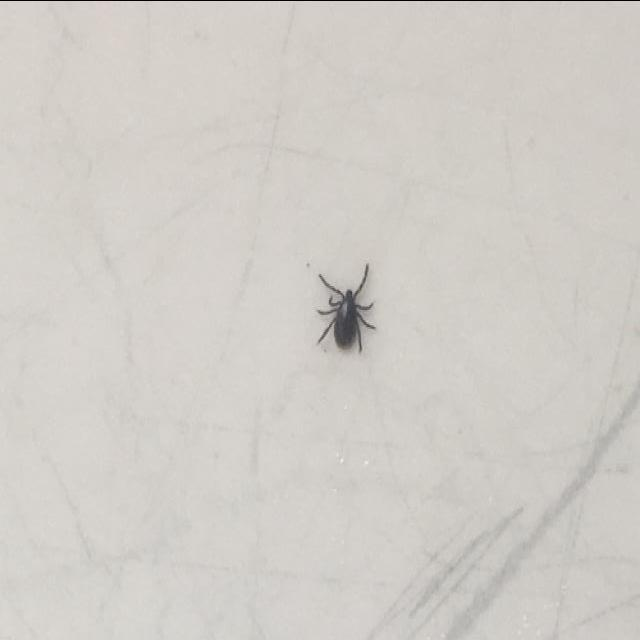Ixodes Ricinus-M: (305, 258, 381, 355)
